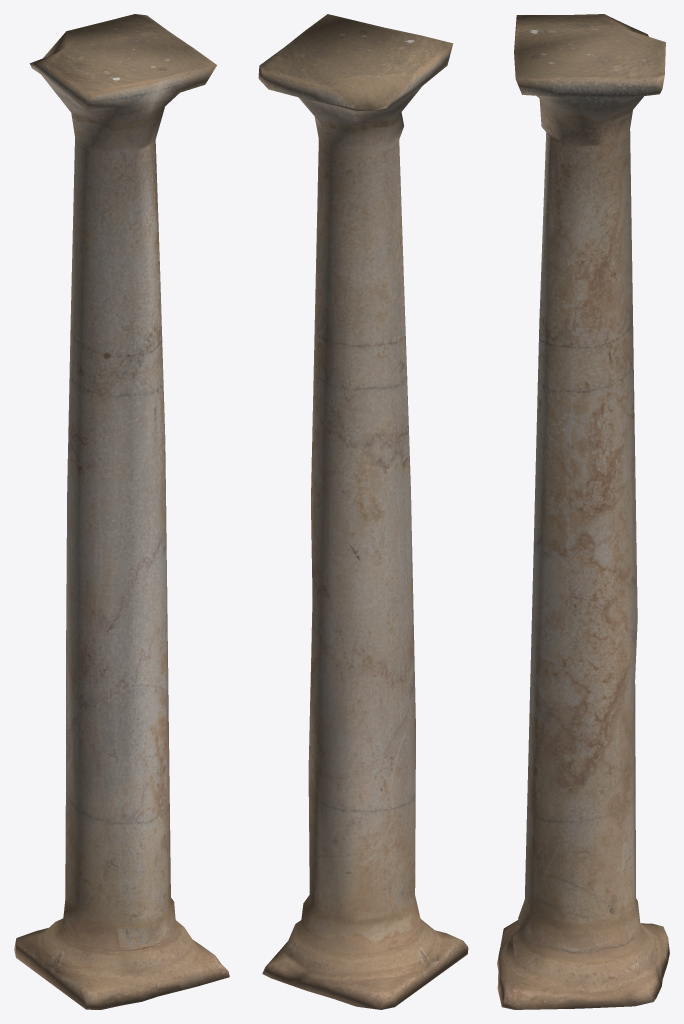
File: RomanColumn.obj
3 views of the same model, side by side, from view 1: azimuth 30°, elevation 25°; view 2: azimuth 150°, elevation 25°; view 3: azimuth 270°, elevation 25° (orthographic).
Visible parts, largest first — view 1: thwfba1fa_LOD0_TIER3_000; view 2: thwfba1fa_LOD0_TIER3_000; view 3: thwfba1fa_LOD0_TIER3_000.
Boxes of the visible parts, x1,y1,x2,y2 form: thwfba1fa_LOD0_TIER3_000: [14, 14, 229, 1009]; thwfba1fa_LOD0_TIER3_000: [258, 14, 468, 1009]; thwfba1fa_LOD0_TIER3_000: [497, 14, 669, 1009].
Size of the model in its own units: 0.3096 by 1.83 by 0.3084.
Materials: 1 (1 with a texture image).
